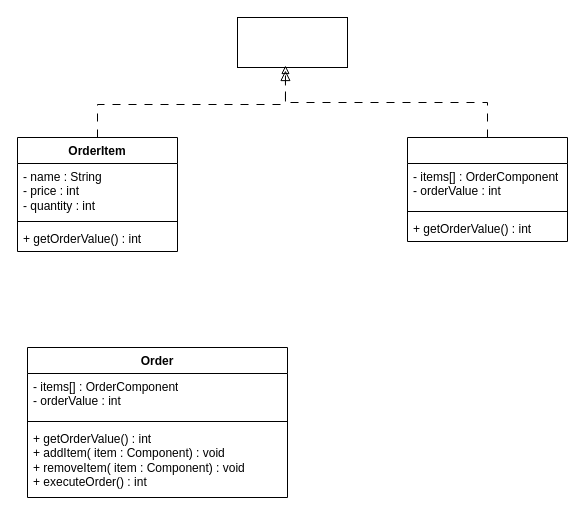
Image size: 585x518. Some labels were removed from this diagram. Each missing label, with the box of its shape:
OrderBucket: (406, 136, 568, 242)
«interface» OrderComponent: (236, 16, 348, 68)
